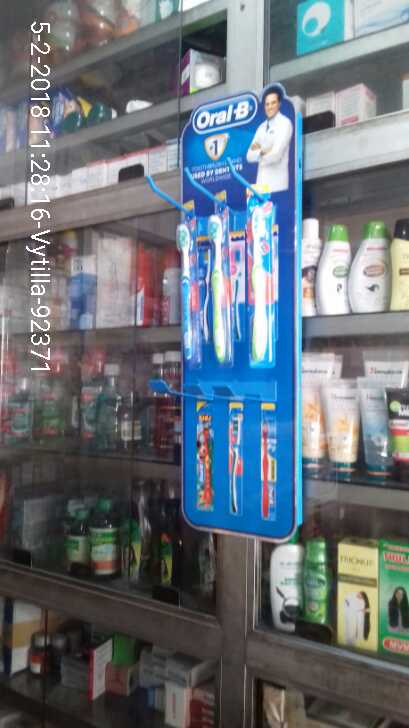oralb: (248, 180, 276, 369), (206, 194, 235, 361), (176, 202, 203, 361)
